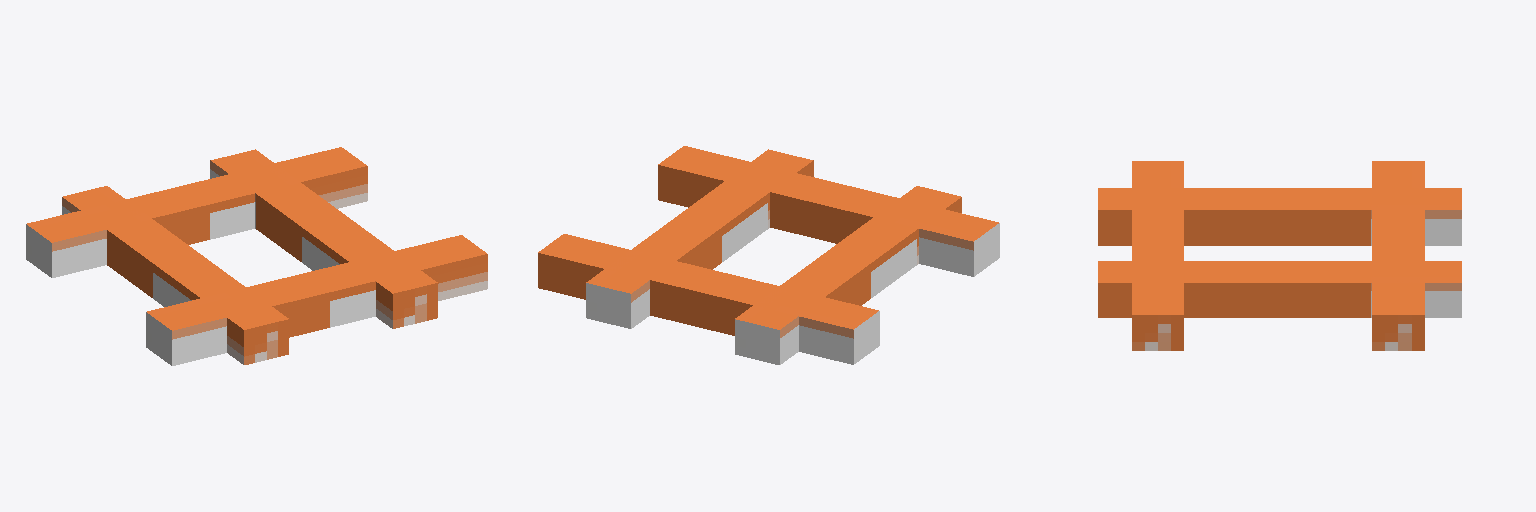
3 renders of one model, left to right at view 1: azimuth 30°, elevation 25°; view 2: azimuth 150°, elevation 25°; view 3: azimuth 270°, elevation 25°, orthographic.
Parts seen in each view (by area): view 1: Cube; view 2: Cube; view 3: Cube.
Boxes of the visible parts, <box> form: Cube: <box>26,147,487,365</box>; Cube: <box>538,146,999,364</box>; Cube: <box>1098,161,1461,350</box>.
Bounding box in the file's own units: 2 × 0.2146 × 2.
1 materials, 1 textured.